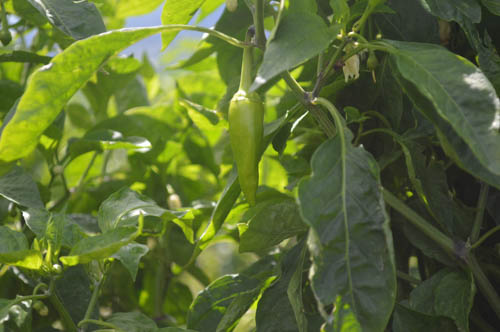ChiliPepper: (228, 97, 264, 205)
